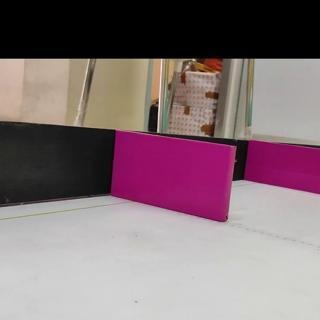xparking: (119, 143, 230, 213), (251, 145, 320, 190)
